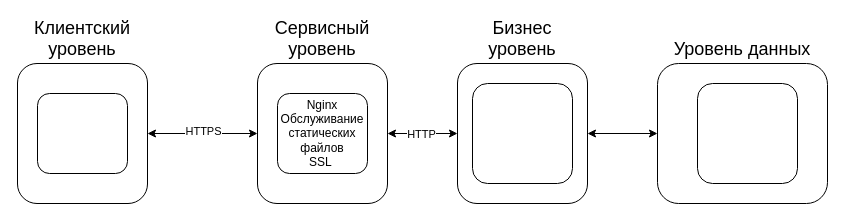
The diagram is 845 pixels wide and 221 high, and some of its shapes have lost their labels. Each missing label, with the centre of its shape:
Golang HTTP API Аутентификация: point (522, 133)
PostgreSQL Главное хранилище: point (747, 133)
Веб-браузер: point (82, 133)
